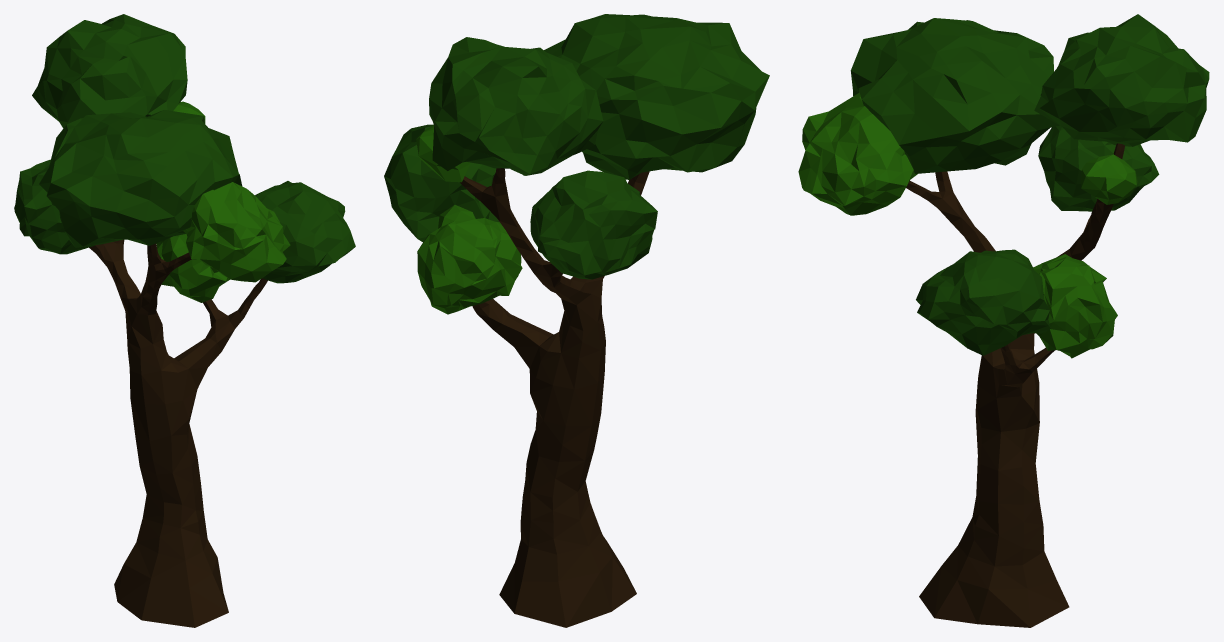
The model's file is common_tree_3.glb.
3 renders of one model, left to right at view 1: azimuth 30°, elevation 25°; view 2: azimuth 150°, elevation 25°; view 3: azimuth 270°, elevation 25°, orthographic. The views are drawn at different scales.
Visible parts, largest first — view 1: common_tree_3_leaves_dark, common_tree_3_trunk, common_tree_3_leaves; view 2: common_tree_3_leaves_dark, common_tree_3_trunk, common_tree_3_leaves; view 3: common_tree_3_leaves_dark, common_tree_3_trunk, common_tree_3_leaves.
Part boxes in pixels (<box>): common_tree_3_leaves_dark: <box>14,14,355,283</box>; common_tree_3_trunk: <box>89,239,267,627</box>; common_tree_3_leaves: <box>156,101,290,302</box>; common_tree_3_leaves_dark: <box>384,14,769,279</box>; common_tree_3_trunk: <box>460,168,649,627</box>; common_tree_3_leaves: <box>416,125,522,314</box>; common_tree_3_leaves_dark: <box>850,14,1209,355</box>; common_tree_3_trunk: <box>906,143,1124,627</box>; common_tree_3_leaves: <box>798,92,1137,358</box>.
Size of the model in its own units: 3.65 by 6.04 by 3.95.
